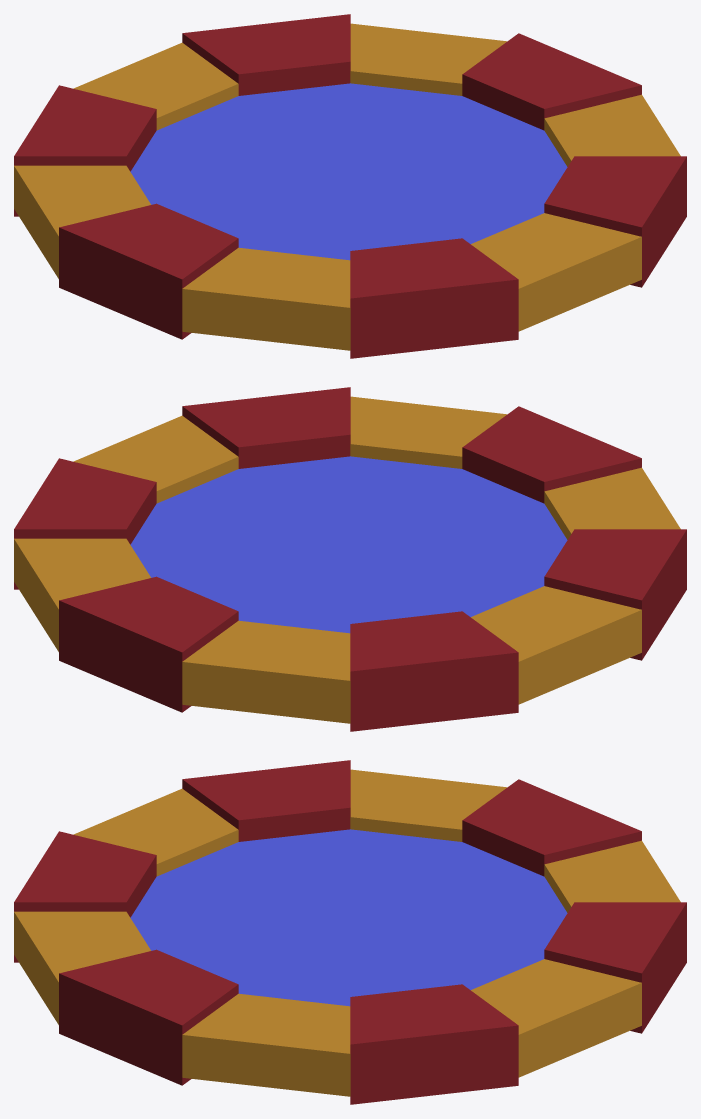
The model's file is Chess_chip.fbx.
The picture shows the model from 3 angles, top to bottom: view 1: azimuth 30°, elevation 25°; view 2: azimuth 150°, elevation 25°; view 3: azimuth 270°, elevation 25°; orthographic projection.
Visible parts, largest first — view 1: Circle; view 2: Circle; view 3: Circle.
Boxes of the visible parts, x1,y1,x2,y2 form: Circle: [14, 14, 686, 358]; Circle: [14, 387, 686, 731]; Circle: [14, 760, 686, 1104].
Size of the model in its own units: 200 by 19.77 by 200.
